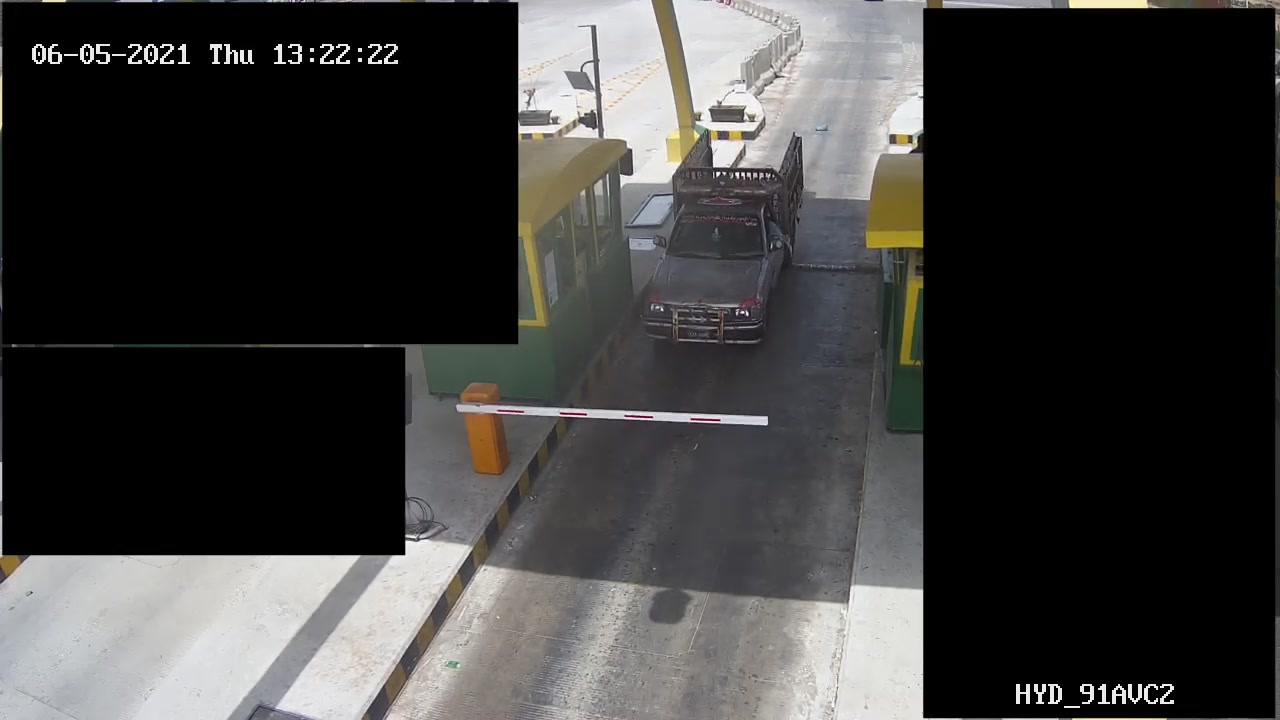F1: (633, 122, 817, 367)
